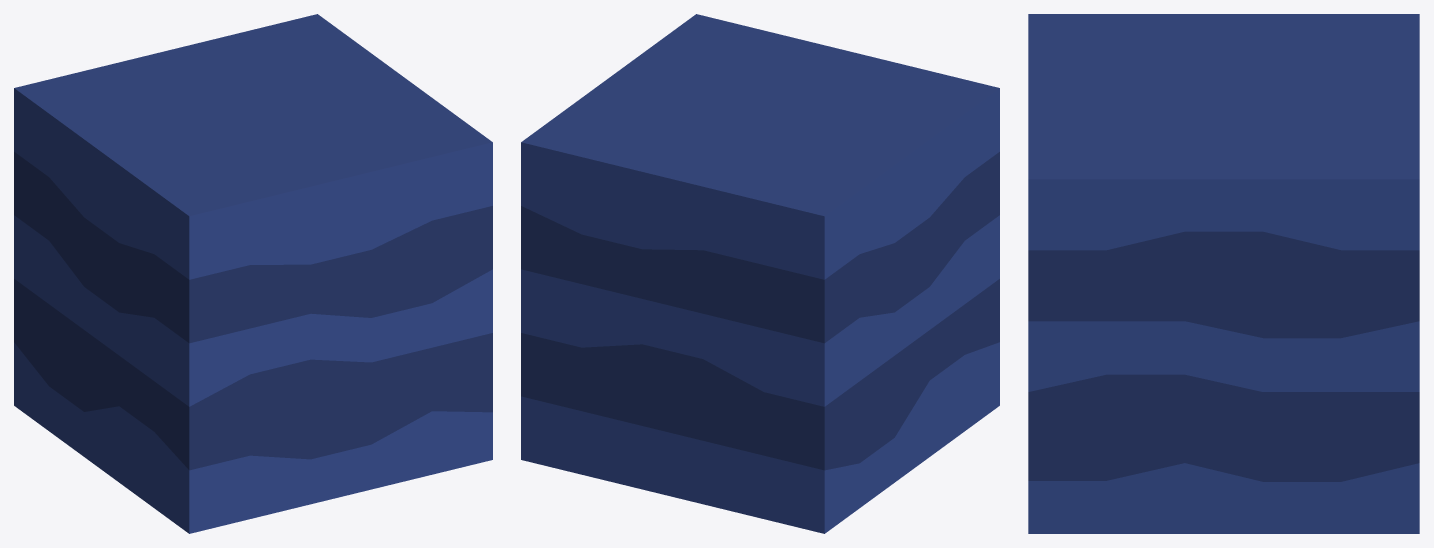
File: Stone028.fbx
3 views of the same model, side by side, from view 1: azimuth 30°, elevation 25°; view 2: azimuth 150°, elevation 25°; view 3: azimuth 270°, elevation 25° (orthographic). The views are drawn at different scales.
Visible parts, largest first — view 1: Stone028; view 2: Stone028; view 3: Stone028.
Boxes of the visible parts, x1=… form: Stone028: x1=14, y1=14, x2=492, y2=533; Stone028: x1=521, y1=14, x2=999, y2=533; Stone028: x1=1028, y1=14, x2=1419, y2=533.
Bounding box in the file's own units: 156 × 156 × 156.
